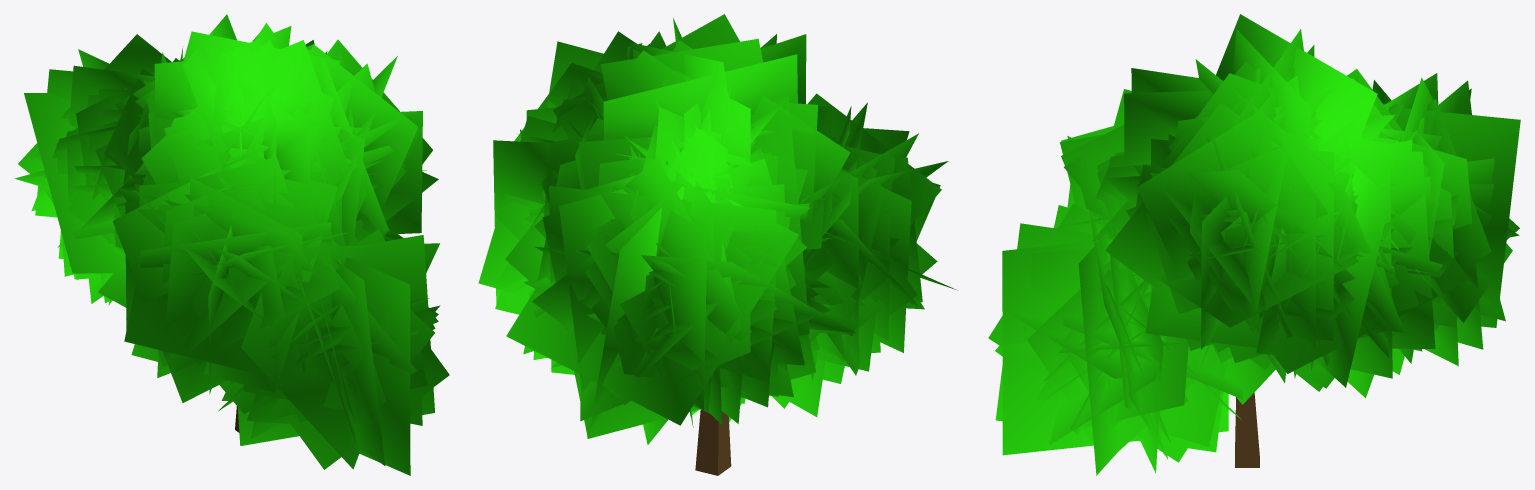
File: basicTree1.fbx
The picture shows the model from 3 angles, left to right: view 1: azimuth 30°, elevation 25°; view 2: azimuth 150°, elevation 25°; view 3: azimuth 270°, elevation 25°; orthographic projection. The views are drawn at different scales.
Parts seen in each view (by area): view 1: Tree1.001; view 2: Tree1.001; view 3: Tree1.001.
Part boxes in pixels (x1,y1,x2,y2): Tree1.001: (14, 14, 449, 475); Tree1.001: (478, 14, 957, 475); Tree1.001: (988, 14, 1520, 475).
Size of the model in its own units: 1686 by 1745 by 2023.
